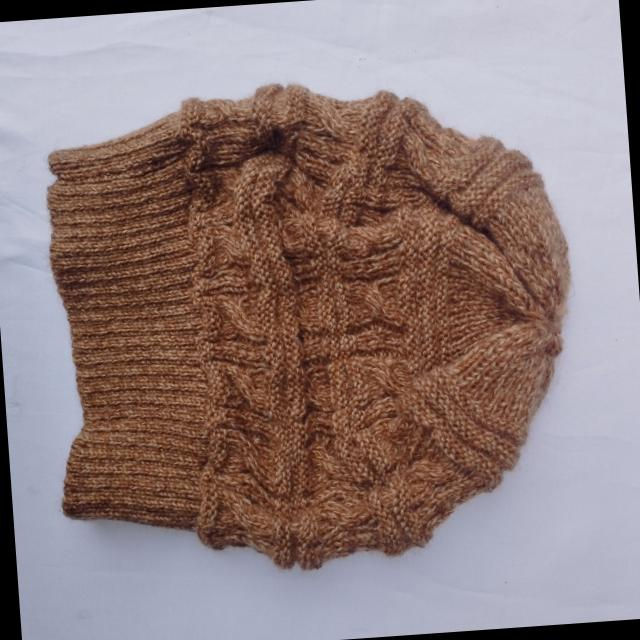Gorro: (32, 62, 590, 587)
